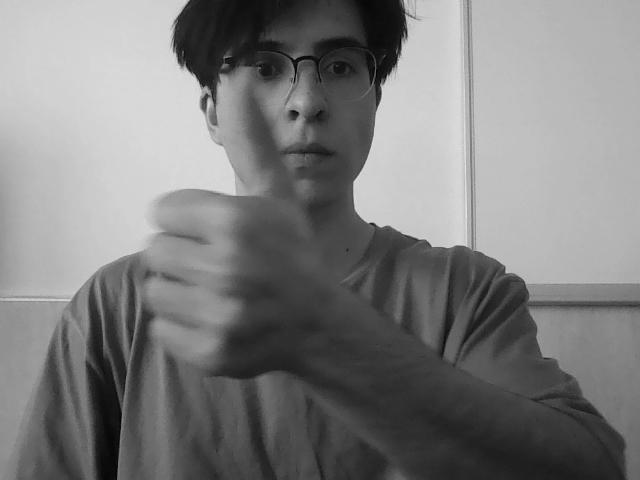friend: (141, 67, 320, 379)
